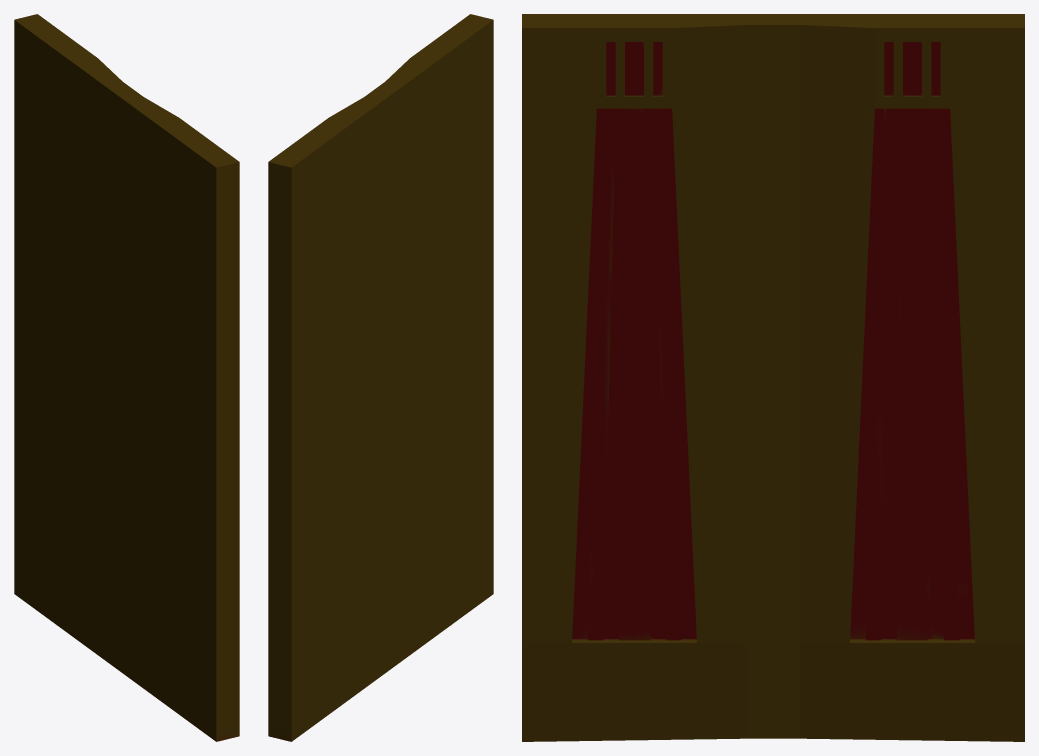
File: puerta.obj
3 views of the same model, side by side, from view 1: azimuth 30°, elevation 25°; view 2: azimuth 150°, elevation 25°; view 3: azimuth 270°, elevation 25° (orthographic). The views are drawn at different scales.
Parts seen in each view (by area): view 1: Cube; view 2: Cube; view 3: Cube.
Part boxes in pixels (x1,y1,x2,y2): Cube: (14, 14, 239, 741); Cube: (268, 14, 493, 741); Cube: (522, 14, 1024, 741).
Bounding box in the file's own units: 0.2 × 4.7 × 3.
